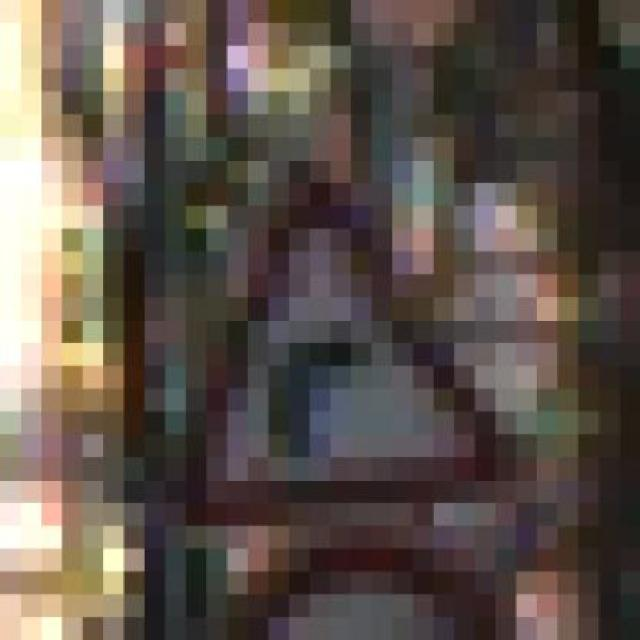Dangerous Rright Curve Ahead: (145, 182, 537, 548)
